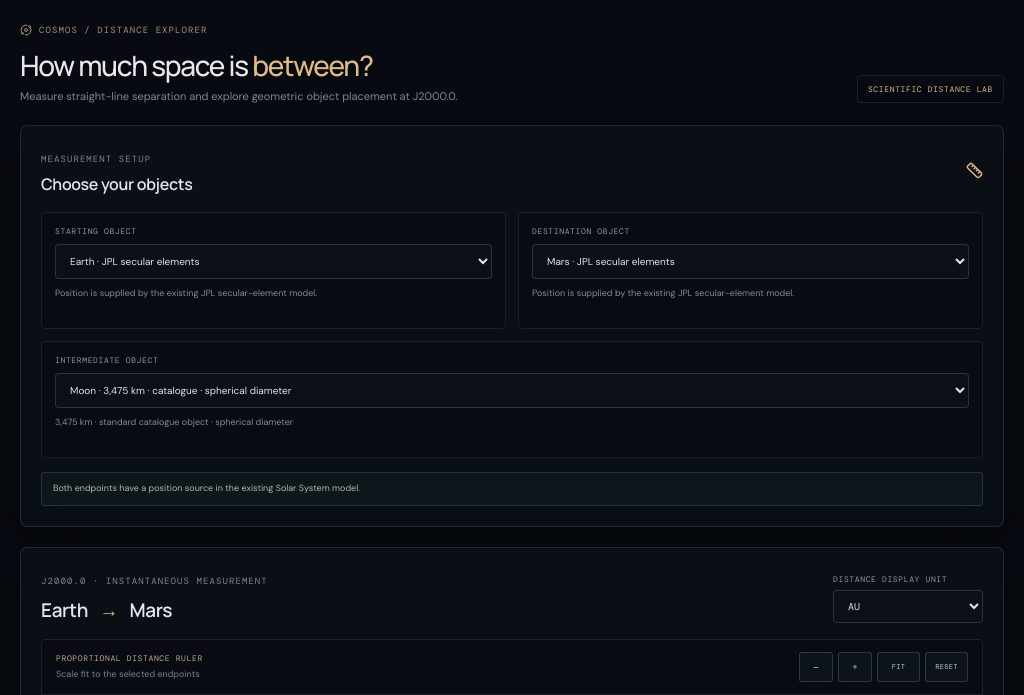
Scenario: Distance Explorer integration › renders a truthful zero-distance ruler when both endpoints are the same object
The width and height of the screenshot is (1024, 695).
Select "Earth · JPL secular elements" in the dropdown labelled "DESTINATION OBJECT": (750, 262) [532, 244, 969, 279]
(page scrolled)
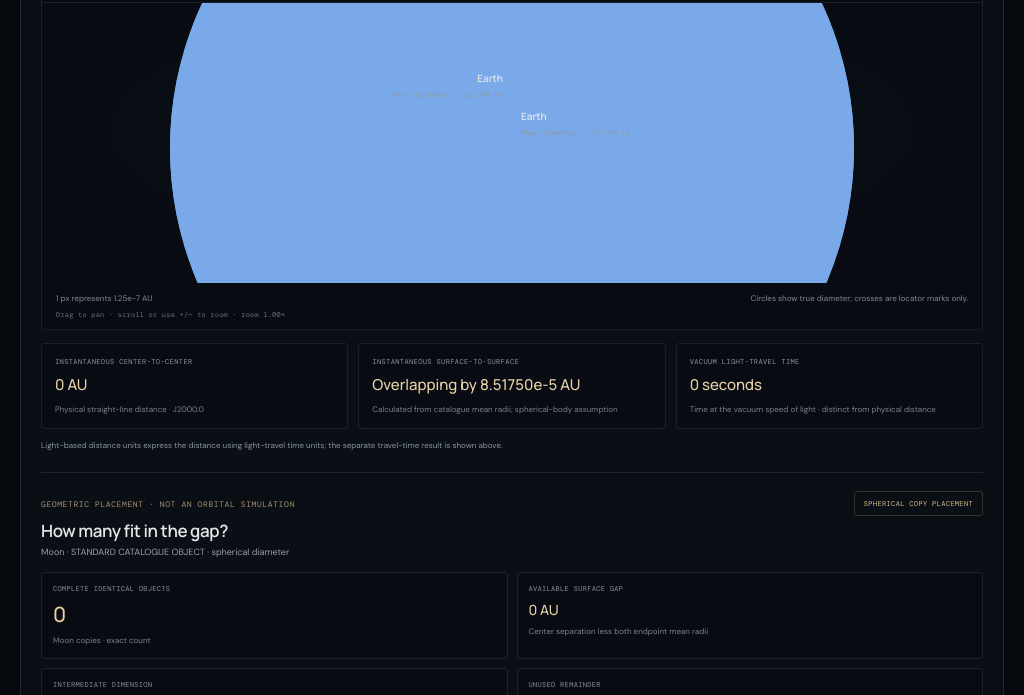
Check: the text "Overlapping by 8.51750e-5 AU" is shown, box [372, 374, 580, 394]
